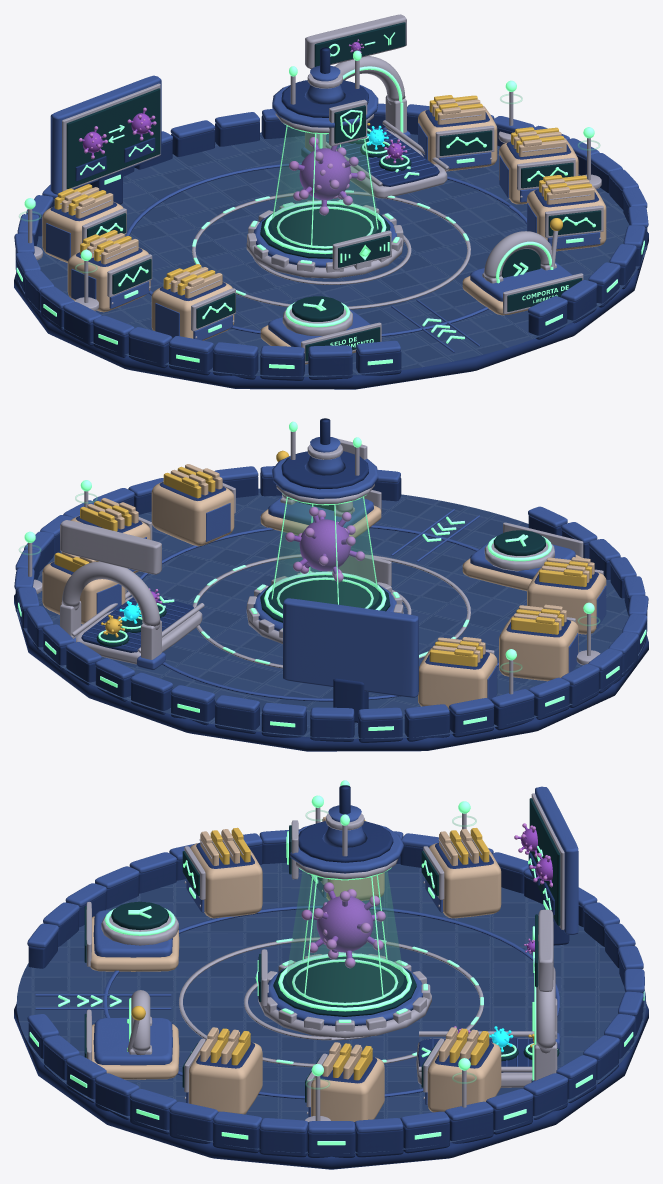
File: memory.glb
The picture shows the model from 3 angles, top to bottom: view 1: azimuth 30°, elevation 25°; view 2: azimuth 150°, elevation 25°; view 3: azimuth 270°, elevation 25°; orthographic projection. The views are drawn at different scales.
Visible parts, largest first — view 1: Piso pintado, memorynavy, memoryrim, memorymetal, memorydark, memorycream, memoryglass, memorygreen, memoryamber, memory_agent_memorypurple, memory_seal_memorydark, memory_agent_memorypink (+3 smaller); view 2: Piso pintado, memoryrim, memorynavy, memorycream, memorymetal, memoryglass, memoryamber, memorygreen, memorydark, memory_agent_memorypurple, memory_seal_memorydark, memory_agent_memorypink; view 3: Piso pintado, memorynavy, memoryrim, memorycream, memorymetal, memoryglass, memorydark, memorygreen, memoryamber, memory_agent_memorypurple, memory_agent_memorypink, memory_seal_memorydark (+1 smaller).
Boxes of the visible parts, x1,y1,x2,y2 form: Piso pintado: (15,132,646,376); memorynavy: (14,47,648,389); memoryrim: (14,65,648,358); memorymetal: (28,14,603,363); memorydark: (66,22,601,361); memorycream: (42,99,606,364); memoryglass: (19,94,600,272); memorygreen: (16,32,644,368); memoryamber: (54,95,591,295); memory_agent_memorypurple: (297,144,357,206); memory_seal_memorydark: (292,296,343,321); memory_agent_memorypink: (289,137,365,215); Piso pintado: (16,488,647,738); memoryrim: (14,437,648,720); memorynavy: (14,418,648,751); memorycream: (42,464,606,710); memorymetal: (28,431,603,694); memoryglass: (19,493,600,672); memoryamber: (54,466,591,666); memorygreen: (18,421,646,730); memorydark: (96,575,390,646); memory_agent_memorypurple: (294,515,356,574); memory_seal_memorydark: (493,530,545,555); memory_agent_memorypink: (285,506,364,582); Piso pintado: (16,862,646,1153); memorynavy: (14,785,648,1169); memoryrim: (27,786,644,1133); memorycream: (90,816,501,1121); memorymetal: (86,793,564,1121); memoryglass: (286,810,476,1089); memorydark: (84,798,560,1102); memorygreen: (29,780,644,1145); memoryamber: (210,820,534,1080); memory_agent_memorypurple: (310,890,377,958); memory_agent_memorypink: (301,882,385,968); memory_seal_memorydark: (111,901,168,930).
Size of what is drawn, in the model's own units: 26.4 by 9.57 by 23.4.
Materials: 21 (21 with a texture image).
